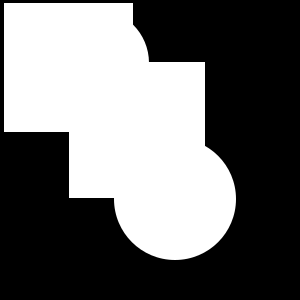circle: (69, 62, 205, 198), (4, 3, 133, 132)
rectangle: (114, 138, 236, 260), (41, 9, 149, 117)
